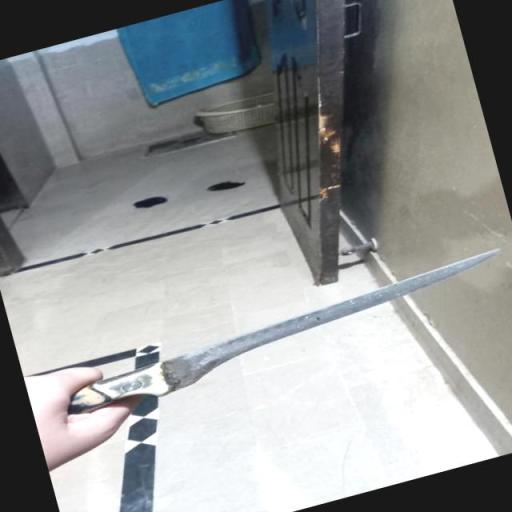knife: (51, 245, 512, 424)
